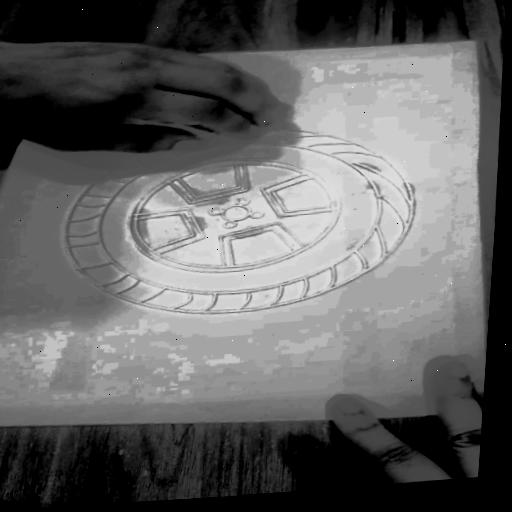bottom_right: (43, 61, 55, 68)
tire: (20, 111, 440, 320)
top_right: (467, 35, 484, 46)
